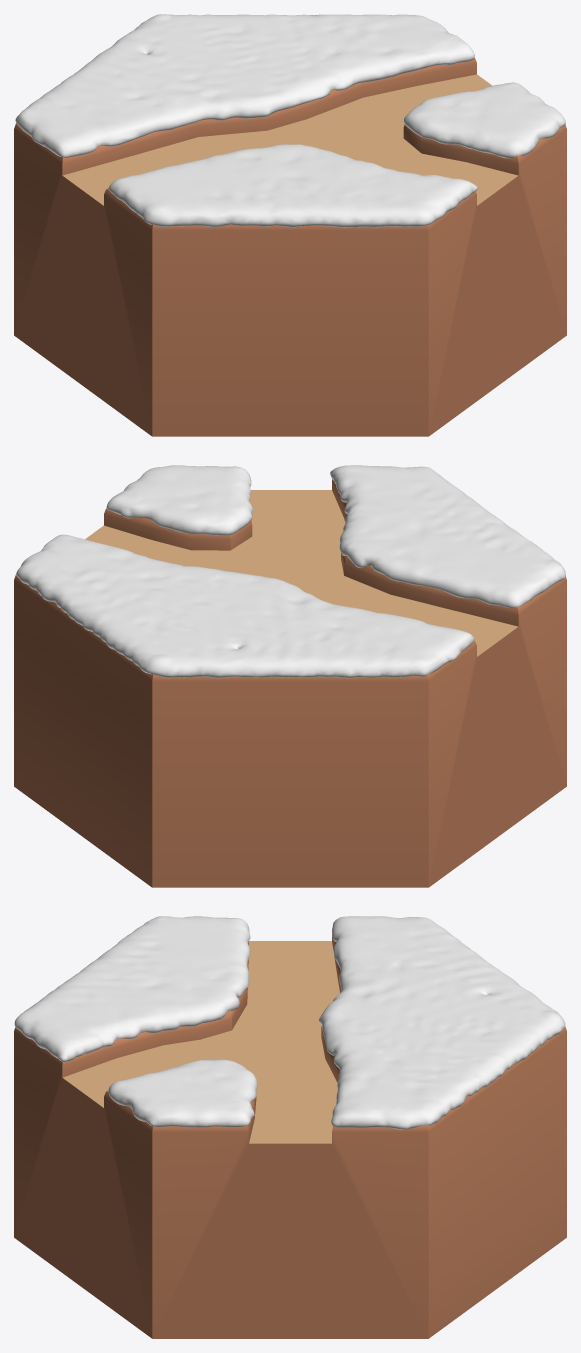
The model's file is hex_rock_roadE.fbx.
3 views of the same model, one above another, from view 1: azimuth 30°, elevation 25°; view 2: azimuth 150°, elevation 25°; view 3: azimuth 270°, elevation 25° (orthographic).
Visible parts, largest first — view 1: hex_rock_roadE.001, SnowBall.001, hex_rock_roadE; view 2: hex_rock_roadE.001, SnowBall.001, hex_rock_roadE; view 3: hex_rock_roadE.001, SnowBall.001, hex_rock_roadE.
Boxes of the visible parts, x1,y1,x2,y2 form: hex_rock_roadE.001: [14, 57, 566, 436]; SnowBall.001: [15, 14, 565, 227]; hex_rock_roadE: [62, 74, 518, 205]; hex_rock_roadE.001: [14, 479, 566, 887]; SnowBall.001: [16, 465, 565, 678]; hex_rock_roadE: [85, 490, 517, 656]; hex_rock_roadE.001: [14, 929, 566, 1338]; SnowBall.001: [14, 916, 565, 1129]; hex_rock_roadE: [63, 941, 339, 1143].
Bounding box in the file's own units: 203 × 103 × 231.
